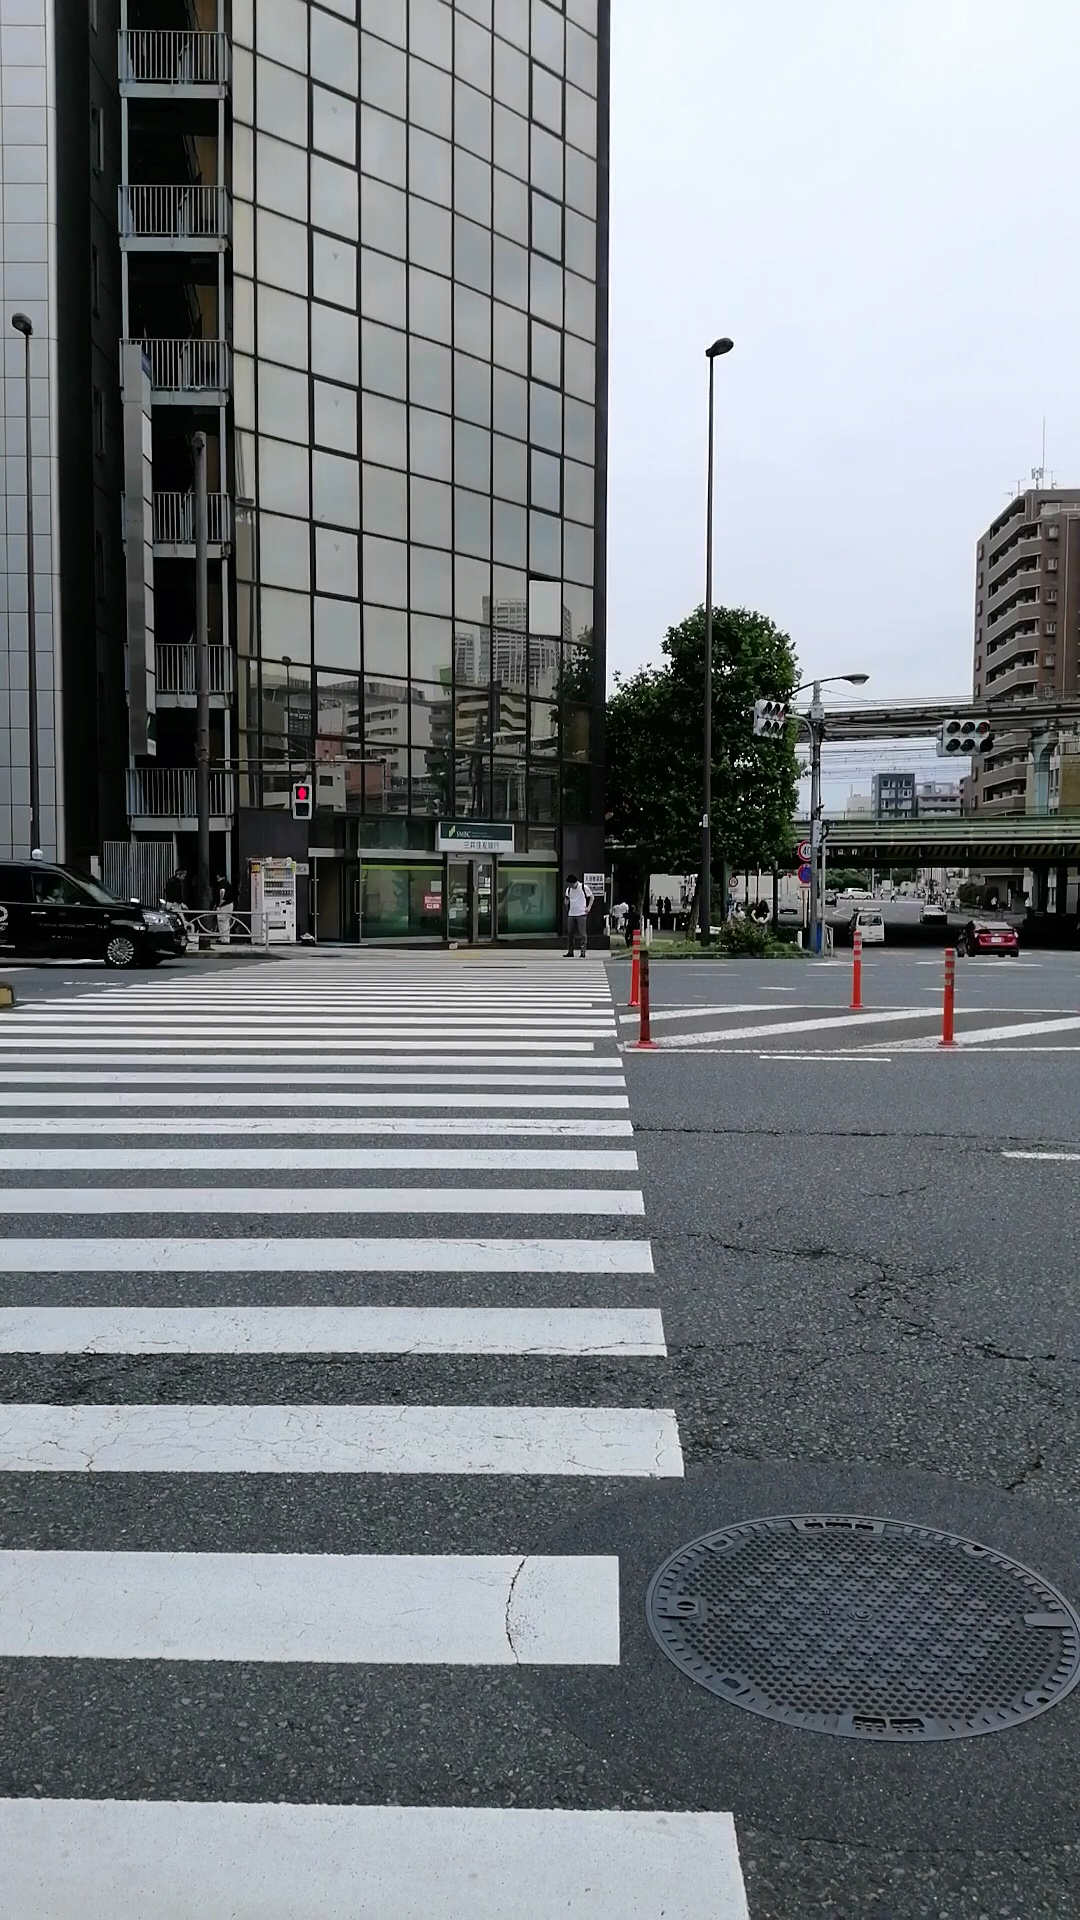red: (291, 782, 313, 820)
